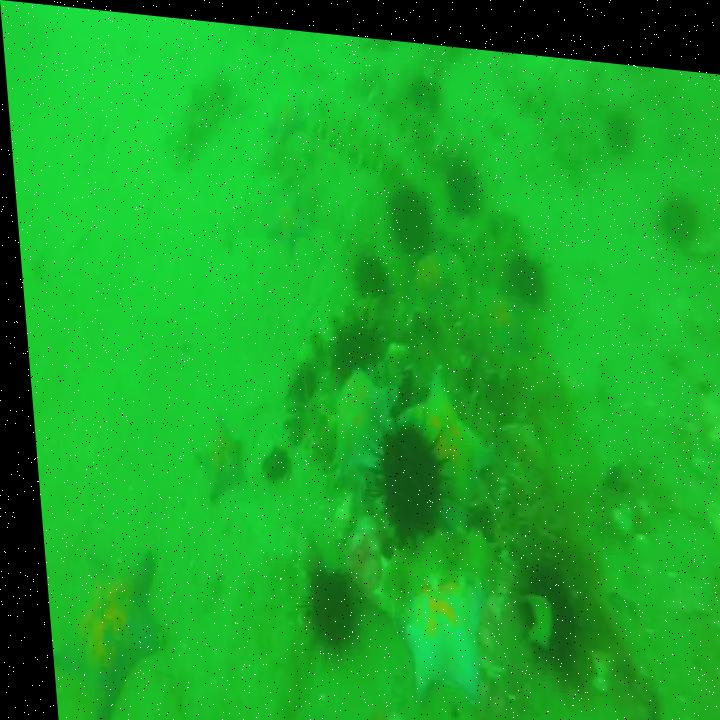echinus: (357, 411, 444, 540), (503, 549, 575, 654), (286, 559, 352, 655), (321, 306, 379, 388), (380, 171, 434, 246), (501, 233, 542, 302), (654, 175, 699, 223), (443, 144, 480, 200), (404, 58, 444, 109), (348, 243, 386, 290), (604, 95, 636, 130)
holothurian: (361, 518, 496, 622), (499, 51, 582, 159), (306, 90, 399, 172)
starfish: (34, 538, 160, 720), (387, 362, 486, 519), (391, 571, 483, 696), (304, 361, 400, 468), (186, 403, 242, 501), (259, 179, 310, 252), (260, 88, 310, 142)
